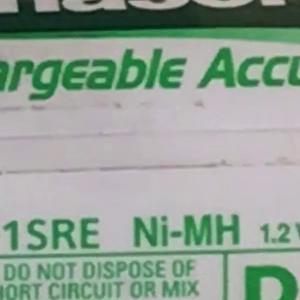keyword: (108, 205, 248, 265)
